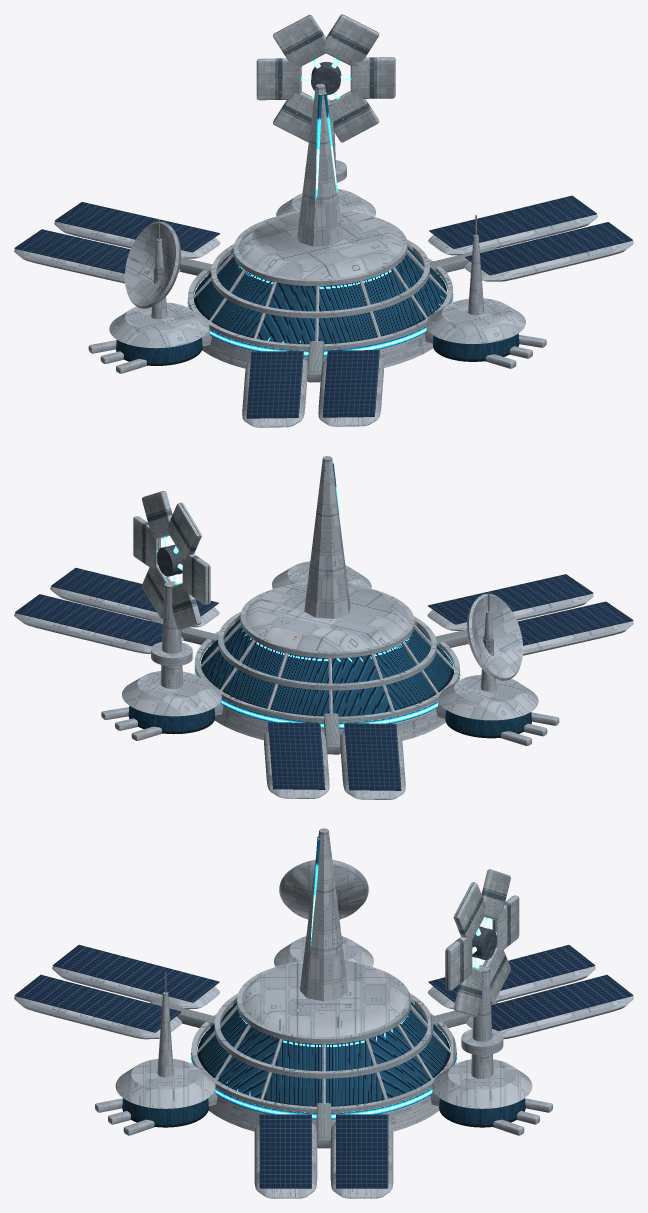
The model's file is alliance_research_outpost_recreated.glb.
3 views of the same model, one above another, from view 1: azimuth 30°, elevation 25°; view 2: azimuth 150°, elevation 25°; view 3: azimuth 270°, elevation 25° (orthographic). The views are drawn at different scales.
Parts seen in each view (by area): view 1: alliance_research_outpost_recreated; view 2: alliance_research_outpost_recreated; view 3: alliance_research_outpost_recreated.
Part boxes in pixels (bbox=[...]): alliance_research_outpost_recreated: bbox=[14, 14, 633, 427]; alliance_research_outpost_recreated: bbox=[14, 456, 633, 799]; alliance_research_outpost_recreated: bbox=[14, 828, 633, 1198].
Bounding box in the file's own units: 7.56 × 3.37 × 7.59.
1 material, 1 textured.
